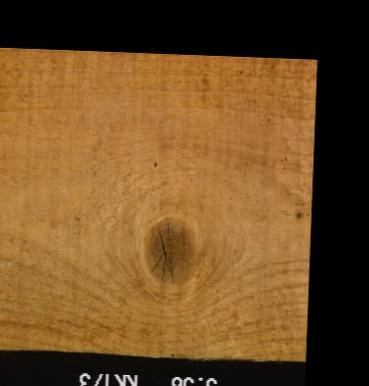small_knot: (294, 209, 303, 219)
sound_knot: (142, 214, 199, 286)
